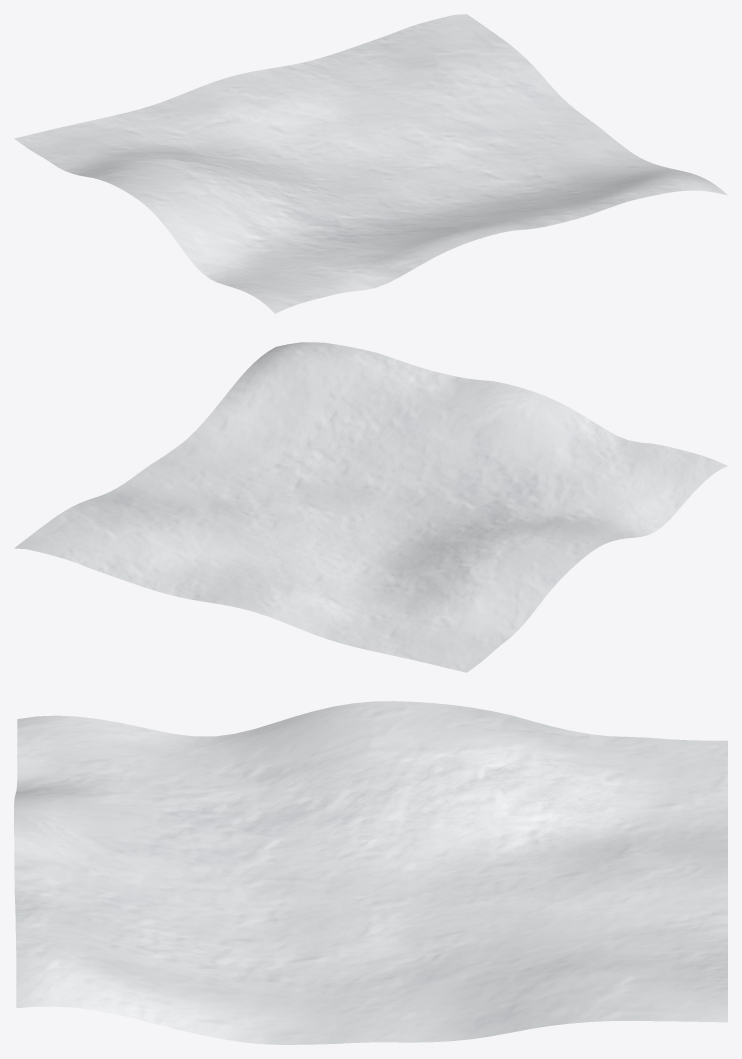
Rendered from IceGround.fbx.
3 renders of one model, top to bottom at view 1: azimuth 30°, elevation 25°; view 2: azimuth 150°, elevation 25°; view 3: azimuth 270°, elevation 25°, orthographic. The views are drawn at different scales.
Parts seen in each view (by area): view 1: IceGround; view 2: IceGround; view 3: IceGround.
Boxes of the visible parts, x1,y1,x2,y2 form: IceGround: (14,14,727,313); IceGround: (14,342,727,672); IceGround: (14,701,727,1044).
Size of the model in its own units: 6415 by 622 by 6433.
